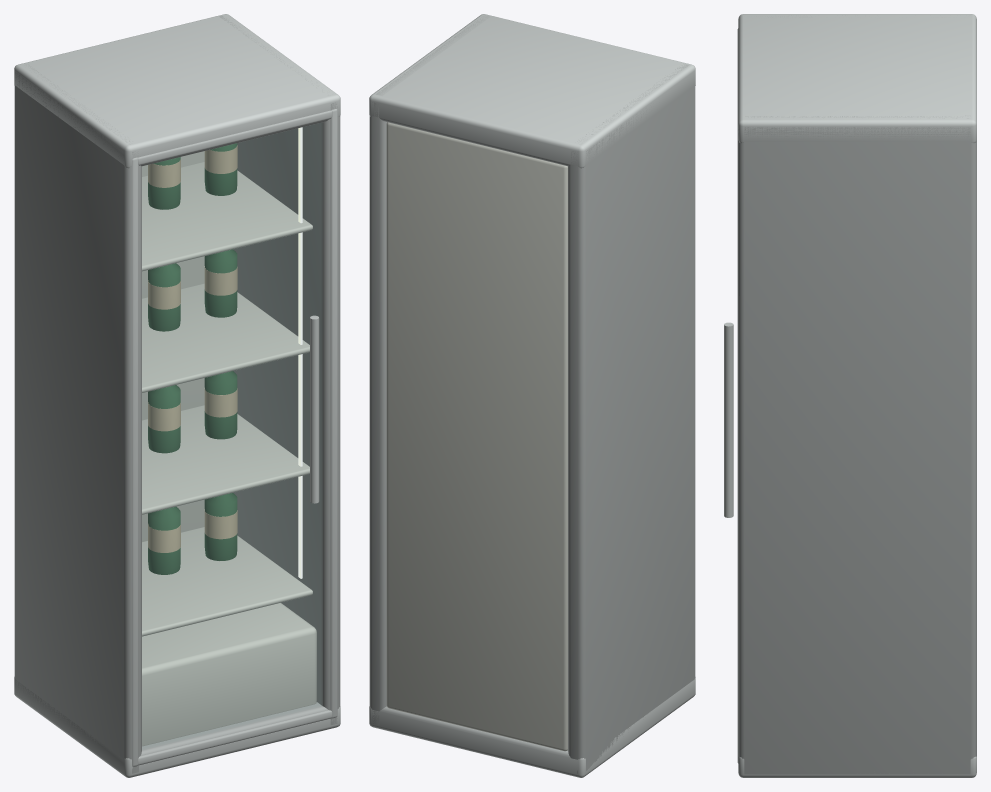
File: glass-fridge-lod0.glb
3 views of the same model, side by side, from view 1: azimuth 30°, elevation 25°; view 2: azimuth 150°, elevation 25°; view 3: azimuth 270°, elevation 25° (orthographic). The views are drawn at different scales.
Parts seen in each view (by area): view 1: glass-fridge.lod0__furniture polished nickel, glass-fridge.lod0::fridge door__fridge glass, glass-fridge.lod0__fridge ivory interior, glass-fridge.lod0::fridge door__furniture polished nickel, glass-fridge.lod0__fridge bottle green, glass-fridge.lod0__fridge label cream, glass-fridge.lod0__fridge warm light; view 2: glass-fridge.lod0__furniture polished nickel, glass-fridge.lod0__fridge ivory interior; view 3: glass-fridge.lod0__furniture polished nickel, glass-fridge.lod0::fridge door__furniture polished nickel.
Boxes of the visible parts, x1,y1,x2,y2 form: glass-fridge.lod0__furniture polished nickel: (14, 14, 340, 777); glass-fridge.lod0::fridge door__fridge glass: (142, 123, 321, 748); glass-fridge.lod0__fridge ivory interior: (142, 151, 316, 746); glass-fridge.lod0::fridge door__furniture polished nickel: (132, 109, 337, 766); glass-fridge.lod0__fridge bottle green: (148, 143, 237, 574); glass-fridge.lod0__fridge label cream: (148, 145, 237, 552); glass-fridge.lod0__fridge warm light: (298, 127, 302, 578); glass-fridge.lod0__furniture polished nickel: (369, 14, 695, 777); glass-fridge.lod0__fridge ivory interior: (386, 122, 567, 751); glass-fridge.lod0__furniture polished nickel: (738, 14, 976, 777); glass-fridge.lod0::fridge door__furniture polished nickel: (724, 28, 738, 763).
Size of the model in its own units: 0.7601 by 2.13 by 0.742.
